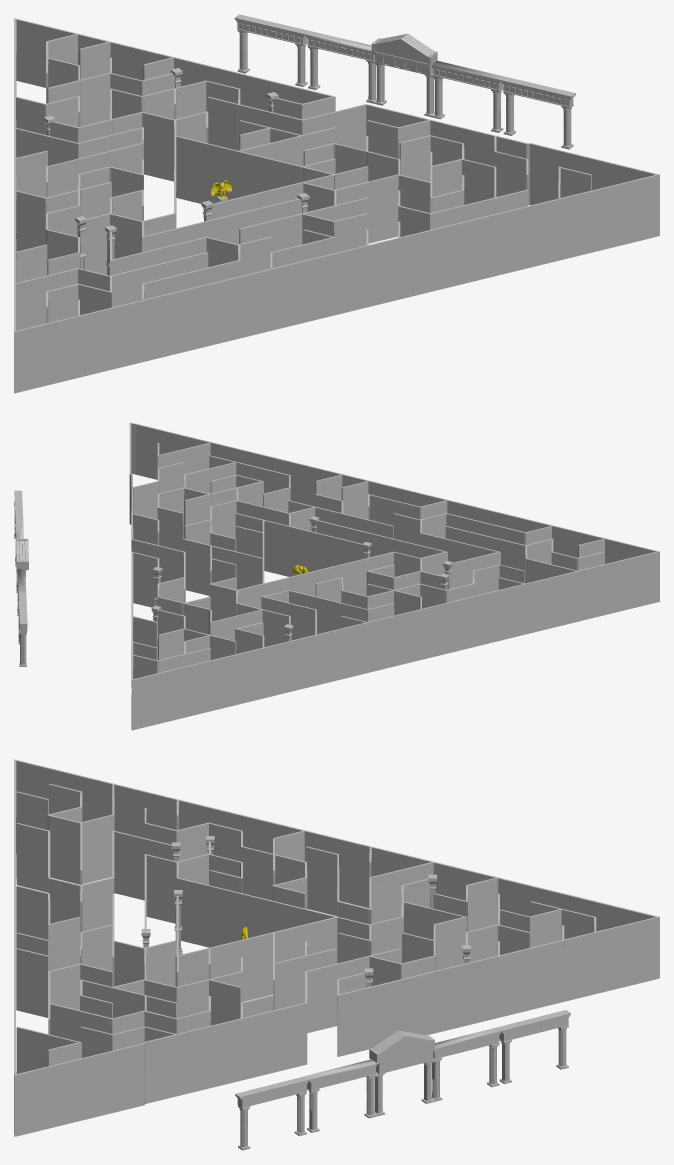
File: Pared.fbx
3 renders of one model, top to bottom at view 1: azimuth 30°, elevation 25°; view 2: azimuth 150°, elevation 25°; view 3: azimuth 270°, elevation 25°, orthographic. The views are drawn at different scales.
Visible parts, largest first — view 1: Low_Poly:polySurface1; view 2: Low_Poly:polySurface1; view 3: Low_Poly:polySurface1.
Boxes of the visible parts, x1,y1,x2,y2 form: Low_Poly:polySurface1: (14,14,659,393); Low_Poly:polySurface1: (14,422,659,730); Low_Poly:polySurface1: (14,759,659,1150).
Size of the model in its own units: 1046 by 109 by 865.
2 materials, 2 textured.
